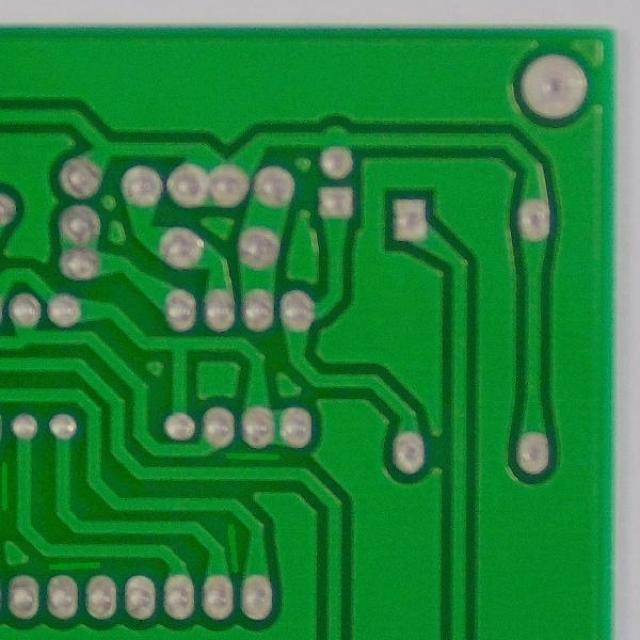Spurious_Cooper: (222, 519, 244, 576), (44, 558, 106, 574), (222, 449, 286, 464), (0, 457, 15, 515)
